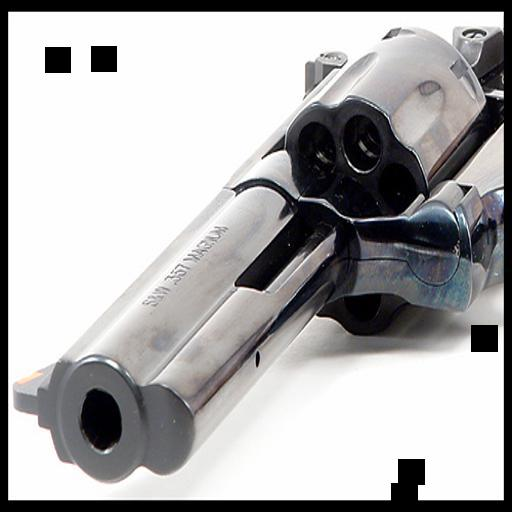Handgun: (11, 26, 502, 481)
